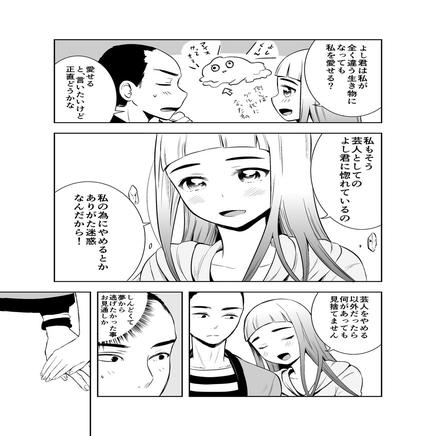bubble: (55, 181, 154, 280), (311, 134, 384, 228), (303, 39, 381, 118), (52, 57, 123, 123), (311, 293, 382, 353)
